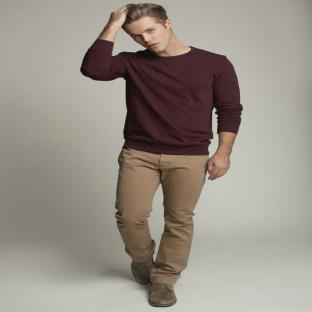Human: (81, 3, 242, 307)
